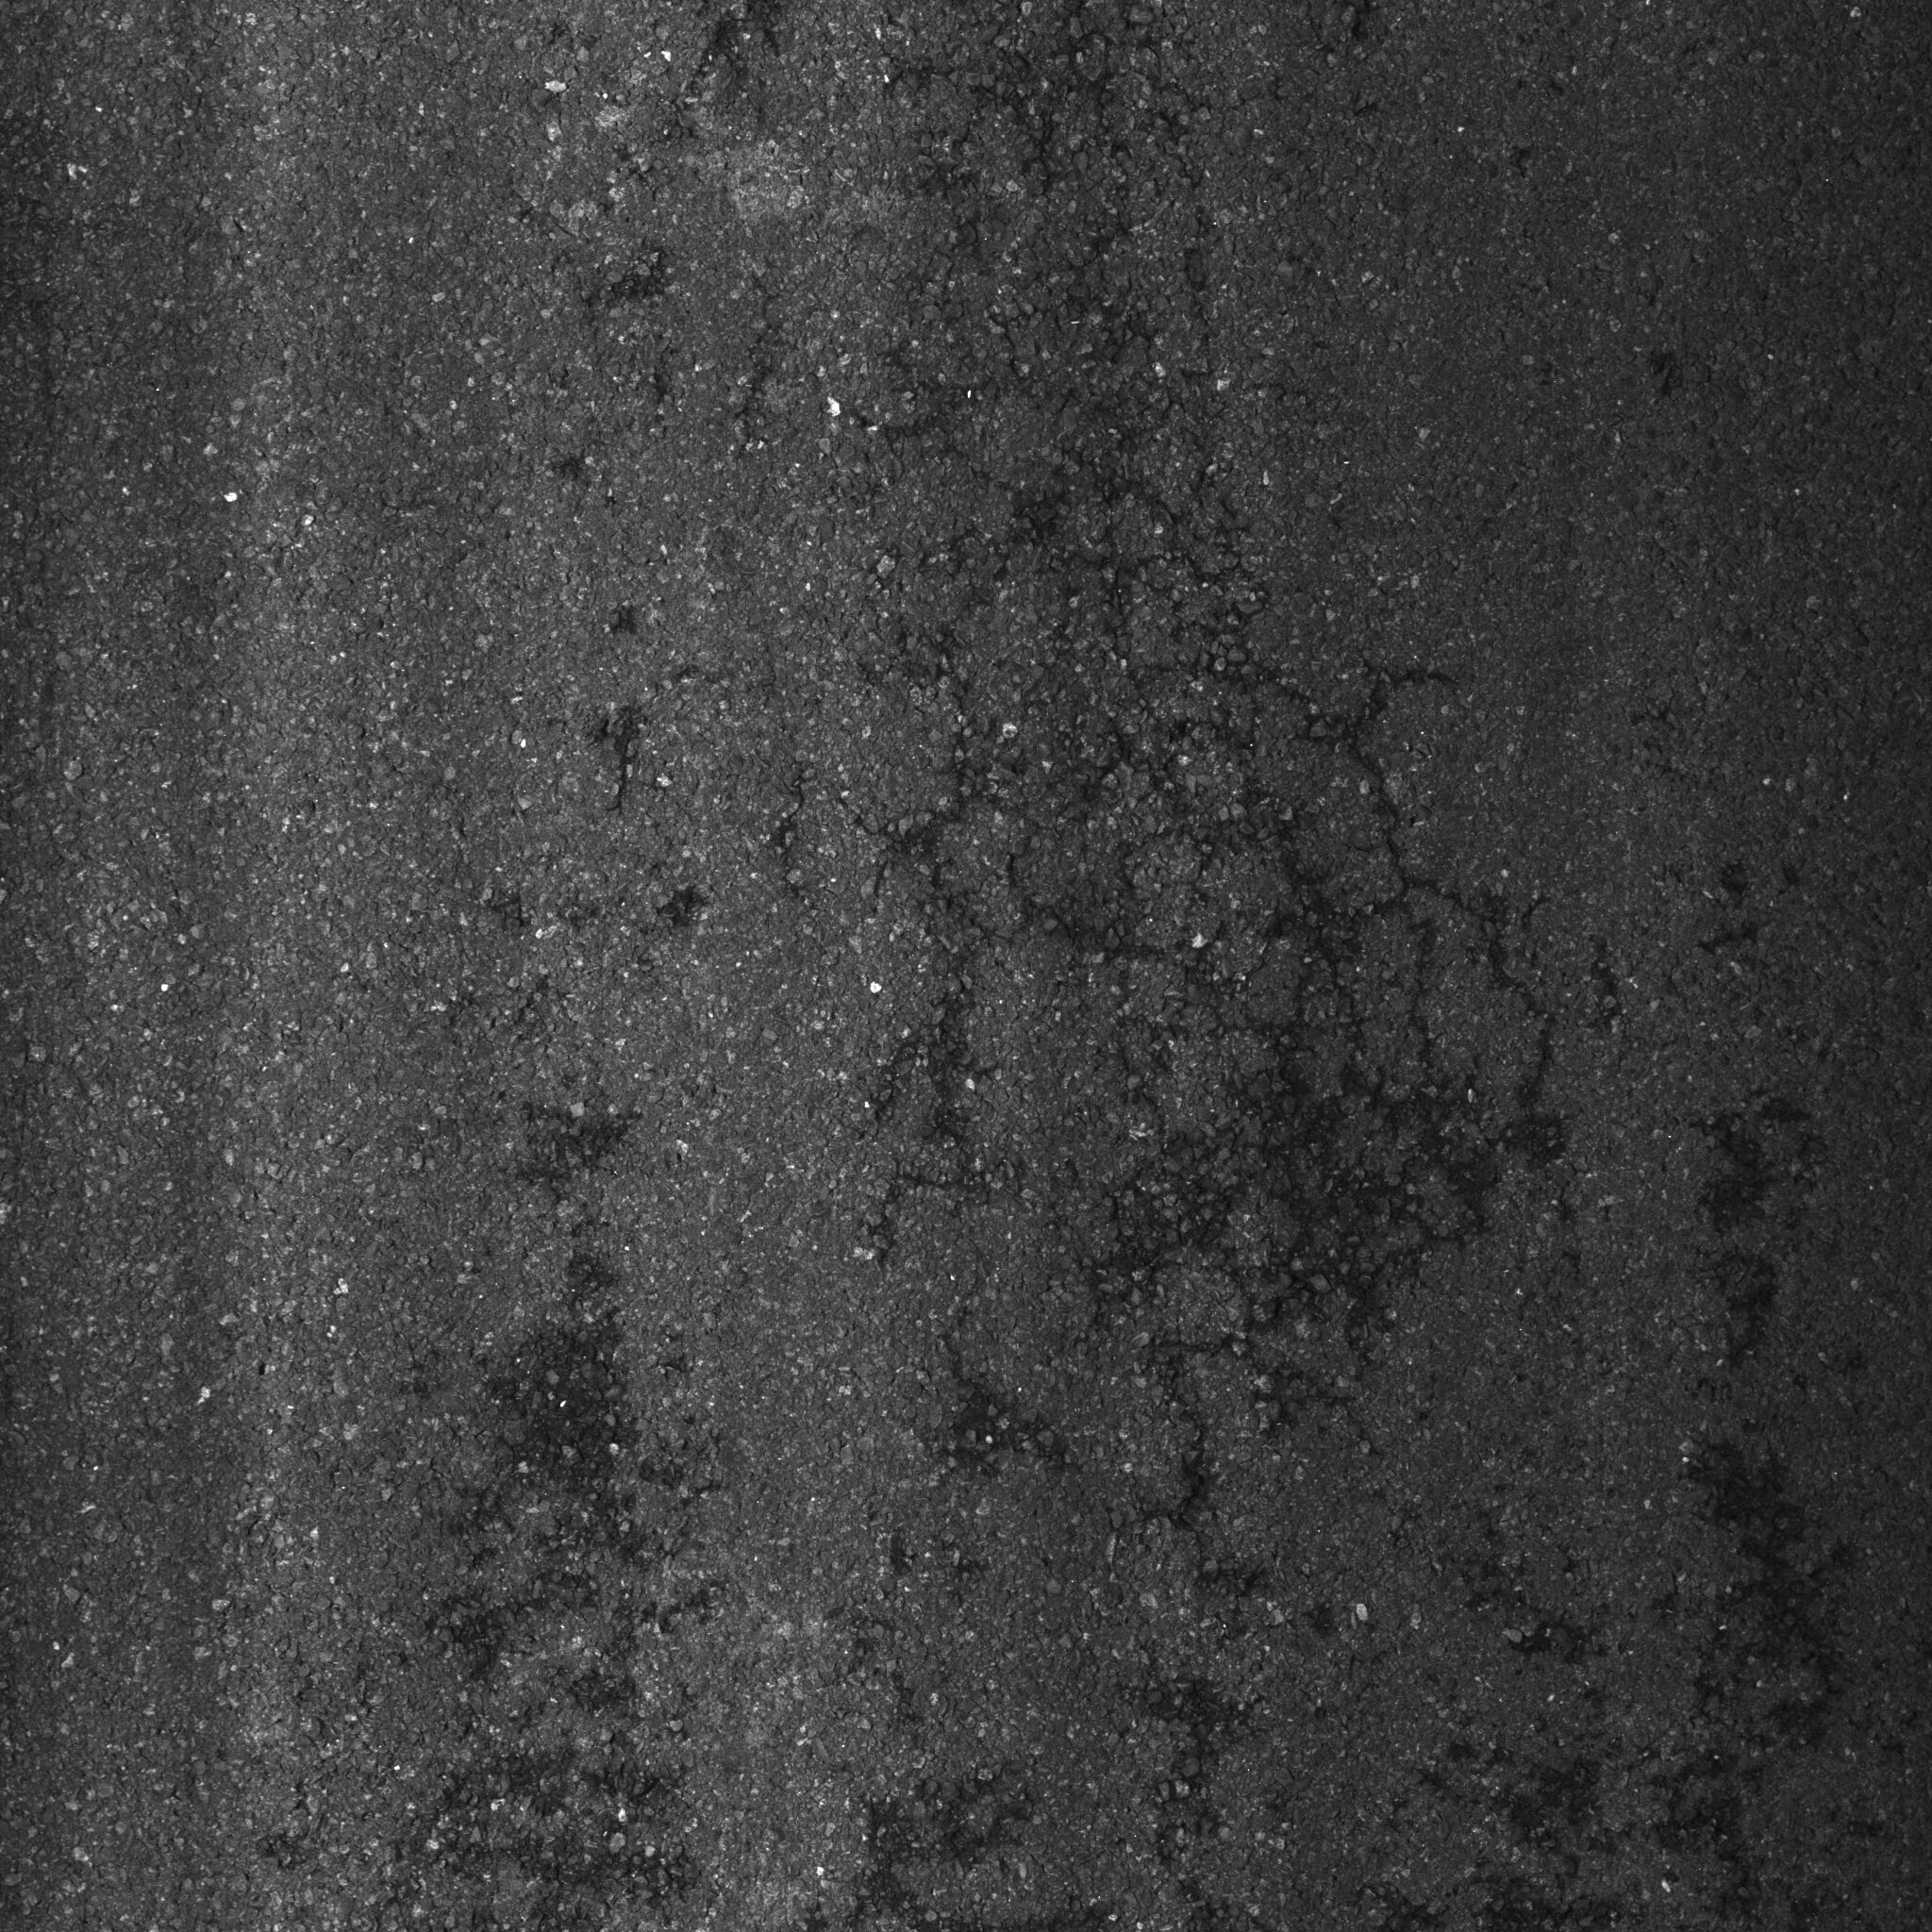alligator: (840, 27, 1580, 1598)
